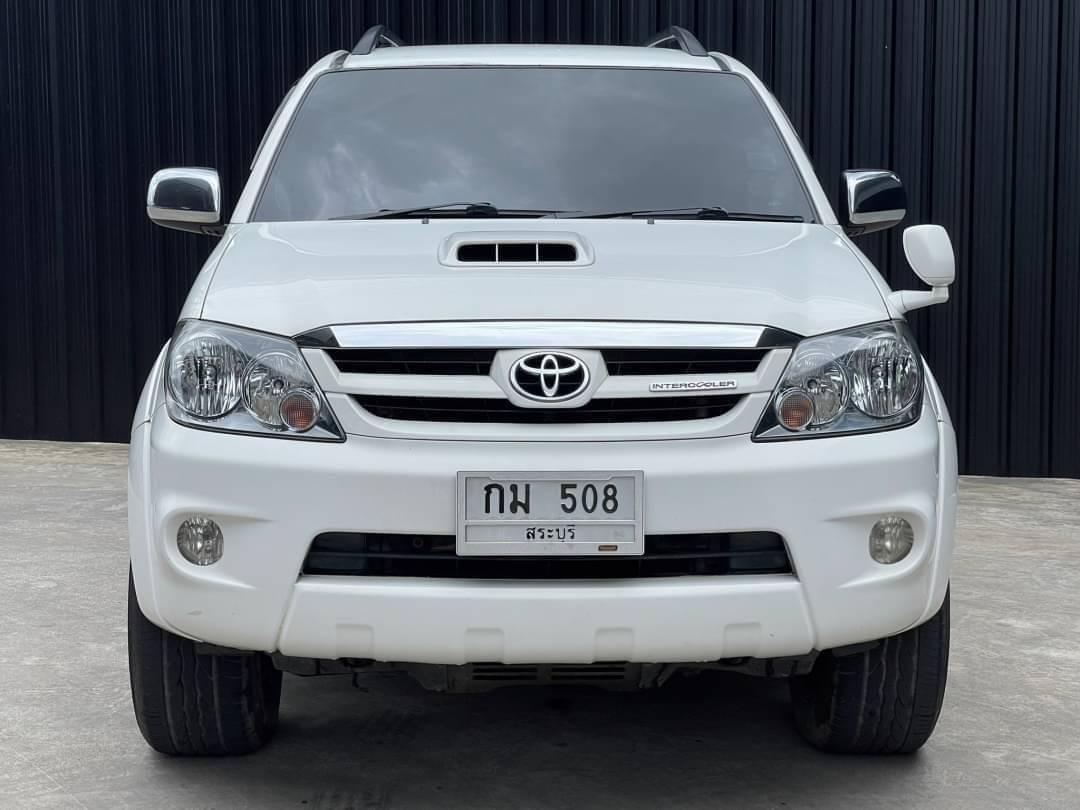license-plate: (454, 470, 649, 560)
